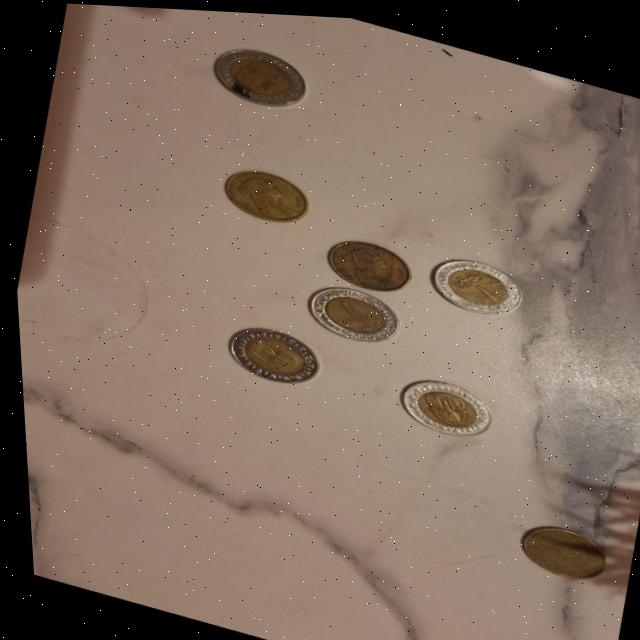Half Pound: (498, 504, 614, 583), (311, 222, 421, 302), (210, 153, 318, 232)
One Pound: (198, 30, 319, 116), (384, 362, 500, 445), (209, 312, 328, 392), (422, 241, 529, 322), (300, 273, 404, 353)
